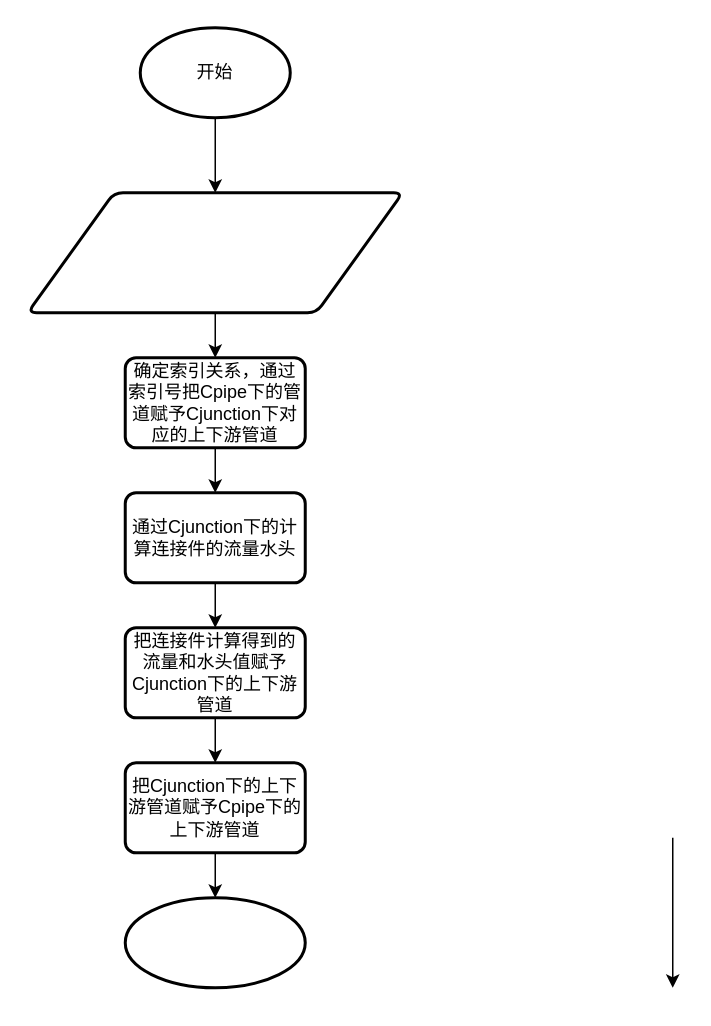
This 711x1026 diagram has some shape labels left out. Here are the shapes that lost their labels. From the top down, the centre of each, then its label:
At point 215,252: "数据输入： 连接件索引 连接件上游连接的管道容器 连接件下游连接的管道容器".
At point 214,942: "end".
